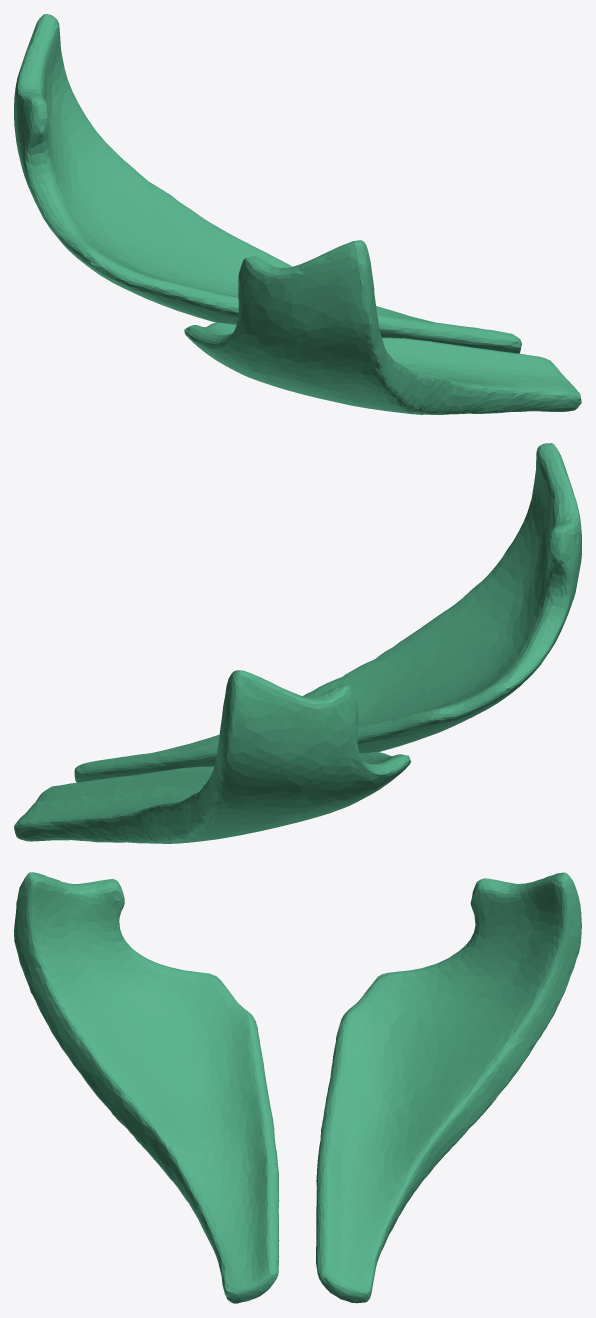
3 views of the same model, one above another, from view 1: azimuth 30°, elevation 25°; view 2: azimuth 150°, elevation 25°; view 3: azimuth 270°, elevation 25° (orthographic). The views are drawn at different scales.
Parts seen in each view (by area): view 1: 962.obj; view 2: 962.obj; view 3: 962.obj.
Boxes of the visible parts, bbox=[...] form: 962.obj: bbox=[14, 14, 581, 414]; 962.obj: bbox=[14, 443, 581, 843]; 962.obj: bbox=[14, 872, 581, 1303].
Bounding box in the file's own units: 4043 × 3163 × 5617.
